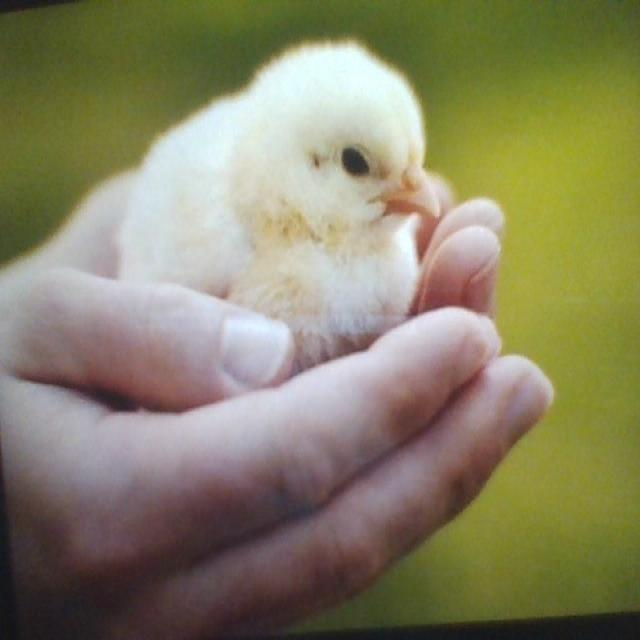Healthy: (115, 37, 441, 358)
